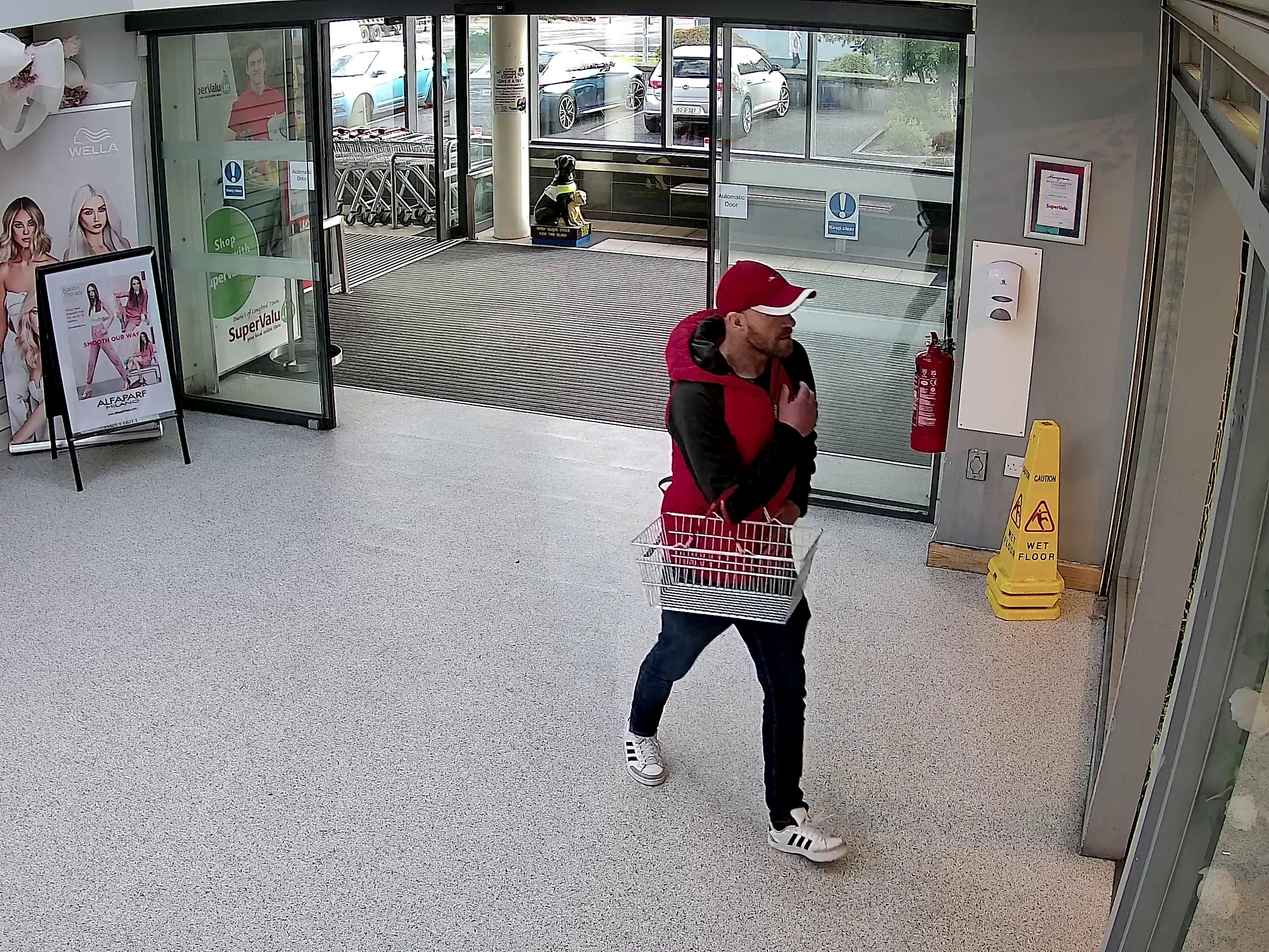empty-basket: (629, 514, 824, 626)
person: (623, 256, 849, 866)
person-with-empty-basket-trolly: (623, 255, 854, 864)
